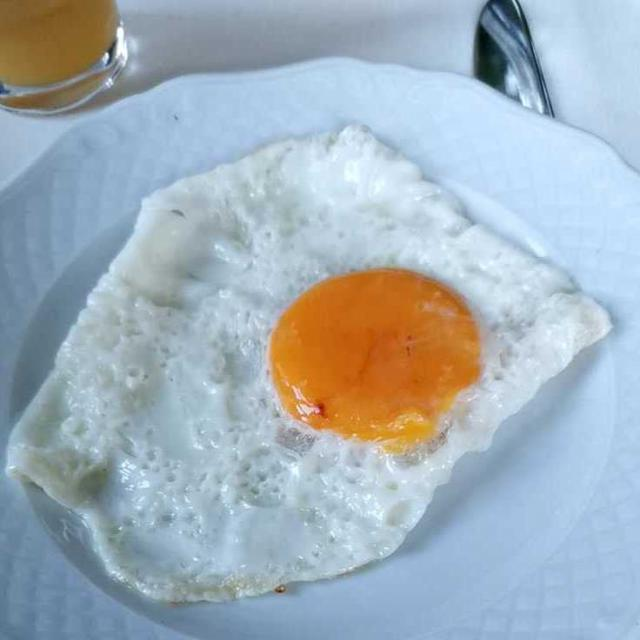egg: (23, 144, 591, 595)
